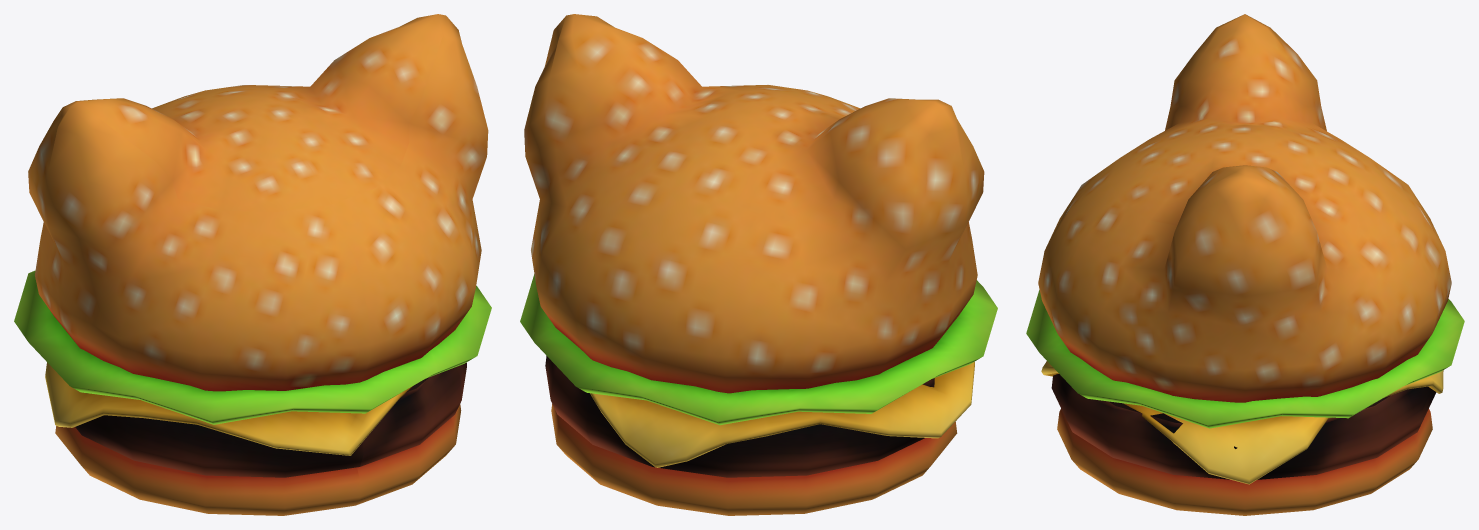
The model's file is Burger.FBX.
The picture shows the model from 3 angles, left to right: view 1: azimuth 30°, elevation 25°; view 2: azimuth 150°, elevation 25°; view 3: azimuth 270°, elevation 25°; orthographic projection. The views are drawn at different scales.
Parts seen in each view (by area): view 1: Burger; view 2: Burger; view 3: Burger.
Part boxes in pixels (x1=…): Burger: x1=14, y1=14, x2=491, y2=515; Burger: x1=520, y1=14, x2=997, y2=515; Burger: x1=1026, y1=14, x2=1464, y2=515.
Bounding box in the file's own units: 10.89 × 9.22 × 10.61.
